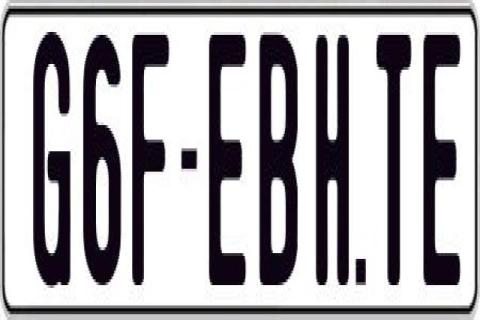0: (81, 29, 125, 279)
B: (256, 35, 300, 291)
E: (208, 35, 250, 291), (422, 26, 462, 276)
F: (129, 35, 169, 299)
G: (33, 29, 77, 288)
H: (315, 26, 350, 276)
T: (376, 35, 414, 291)
